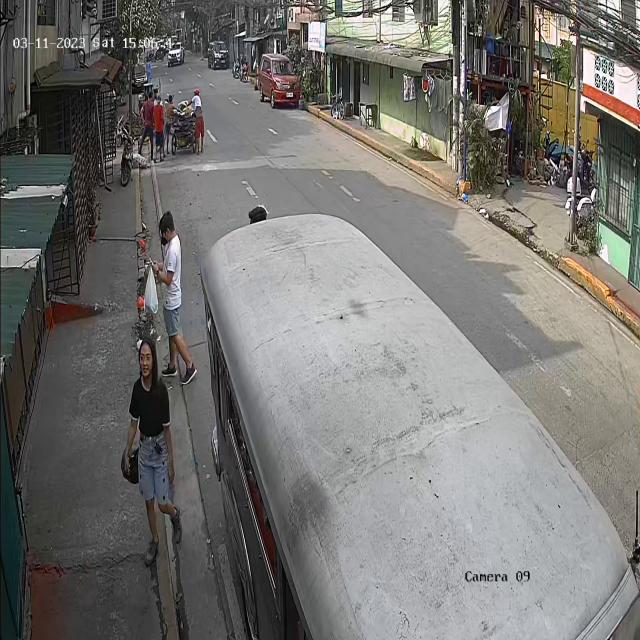garbage_dumping: (116, 442, 142, 488), (144, 260, 161, 318)
